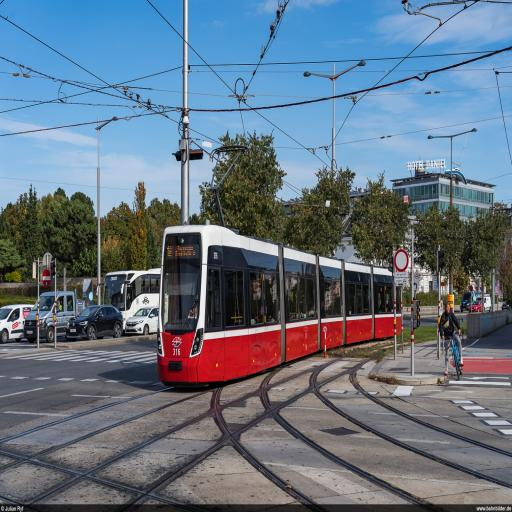Flexity: (156, 224, 401, 386)
